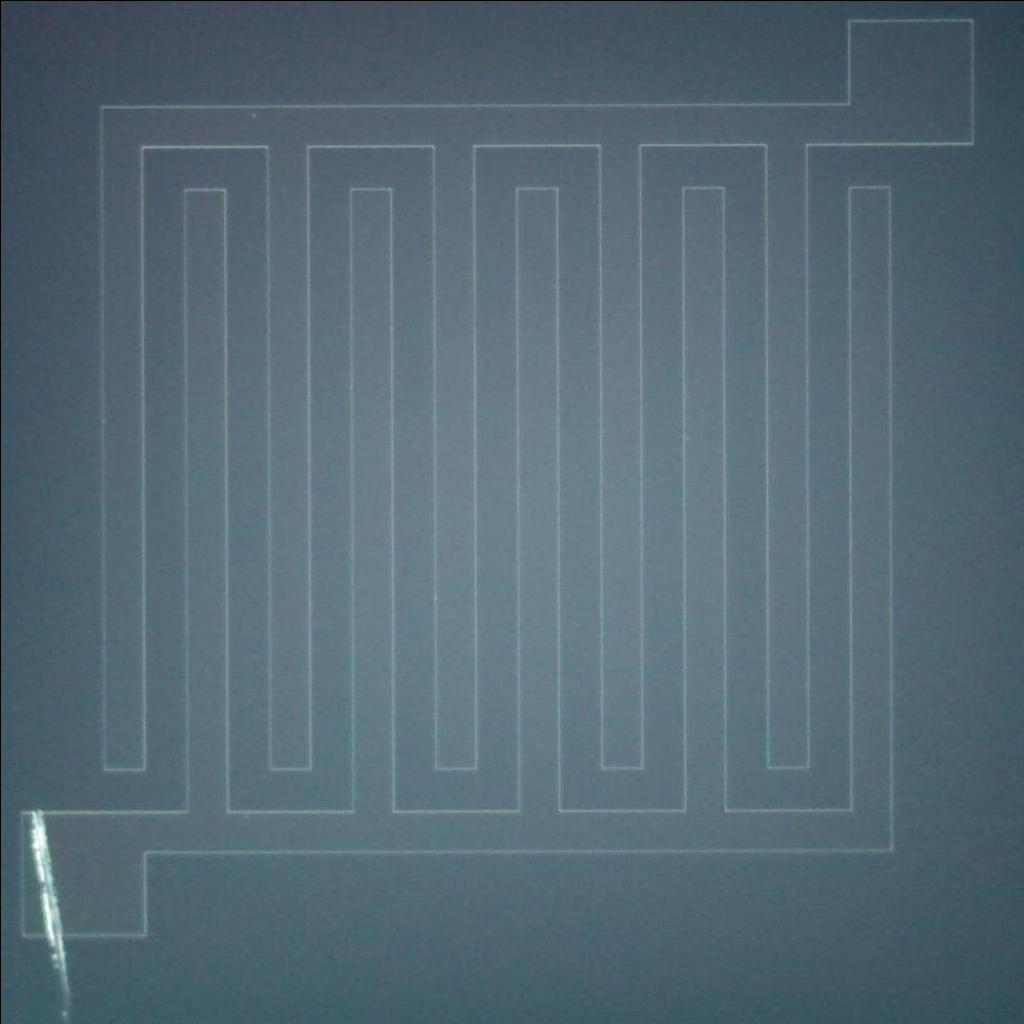scratch: (24, 808, 78, 1022)
